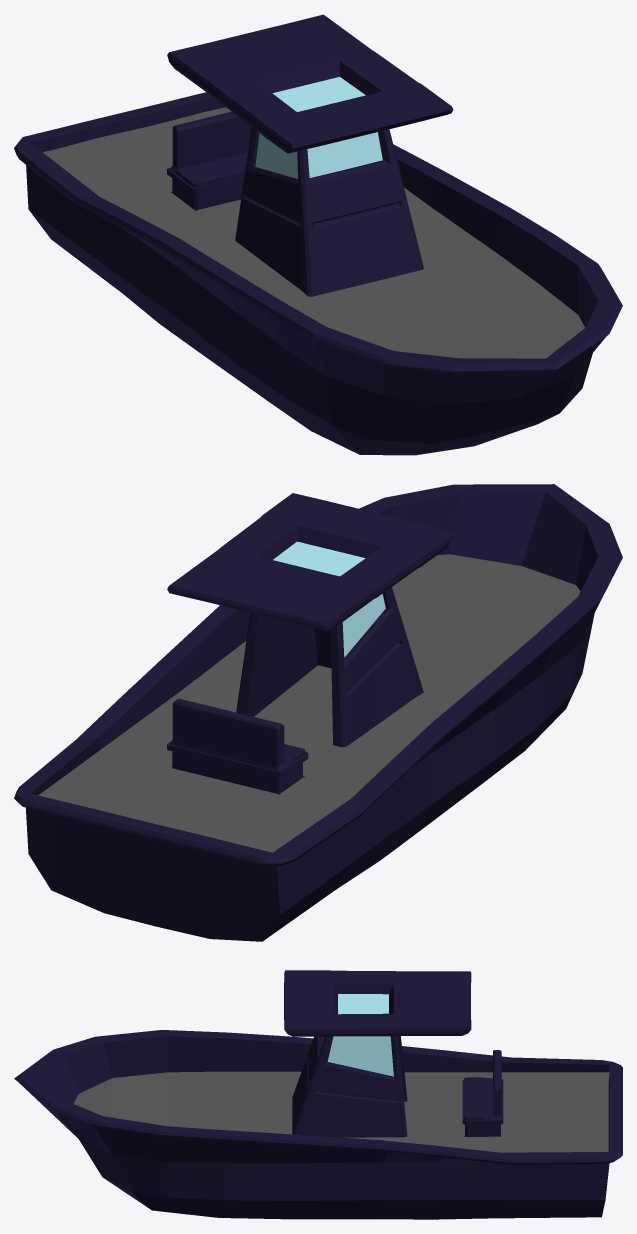
File: PatrolBoatA.fbx
The picture shows the model from 3 angles, top to bottom: view 1: azimuth 30°, elevation 25°; view 2: azimuth 150°, elevation 25°; view 3: azimuth 270°, elevation 25°; orthographic projection. The views are drawn at different scales.
Visible parts, largest first — view 1: PatrolBoat; view 2: PatrolBoat; view 3: PatrolBoat.
Part boxes in pixels (<box>): PatrolBoat: <box>14,14,622,455</box>; PatrolBoat: <box>14,484,622,941</box>; PatrolBoat: <box>14,970,622,1219</box>.
Bounding box in the file's own units: 587 × 494 × 1444.
